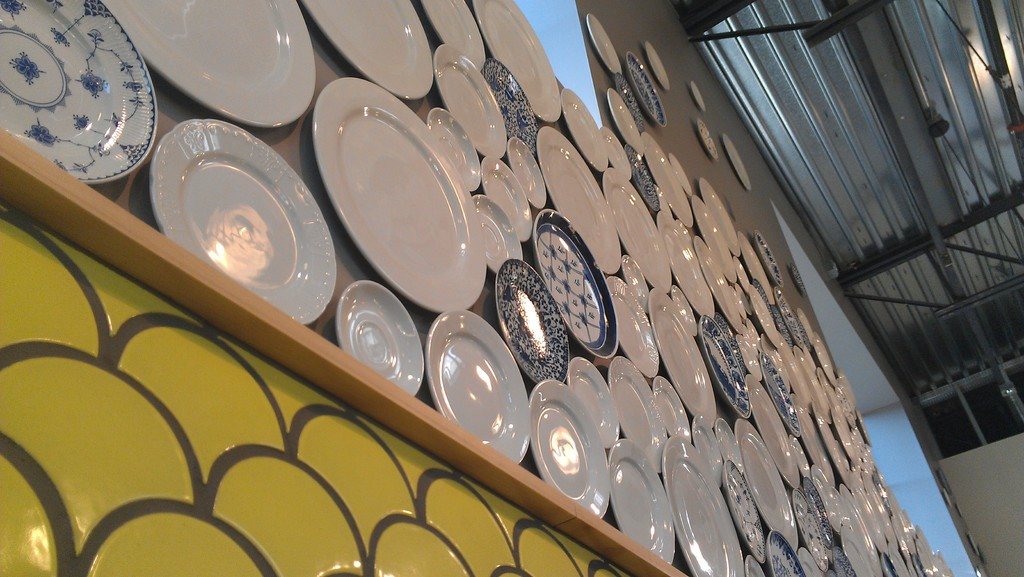plate: (317, 105, 482, 273)
